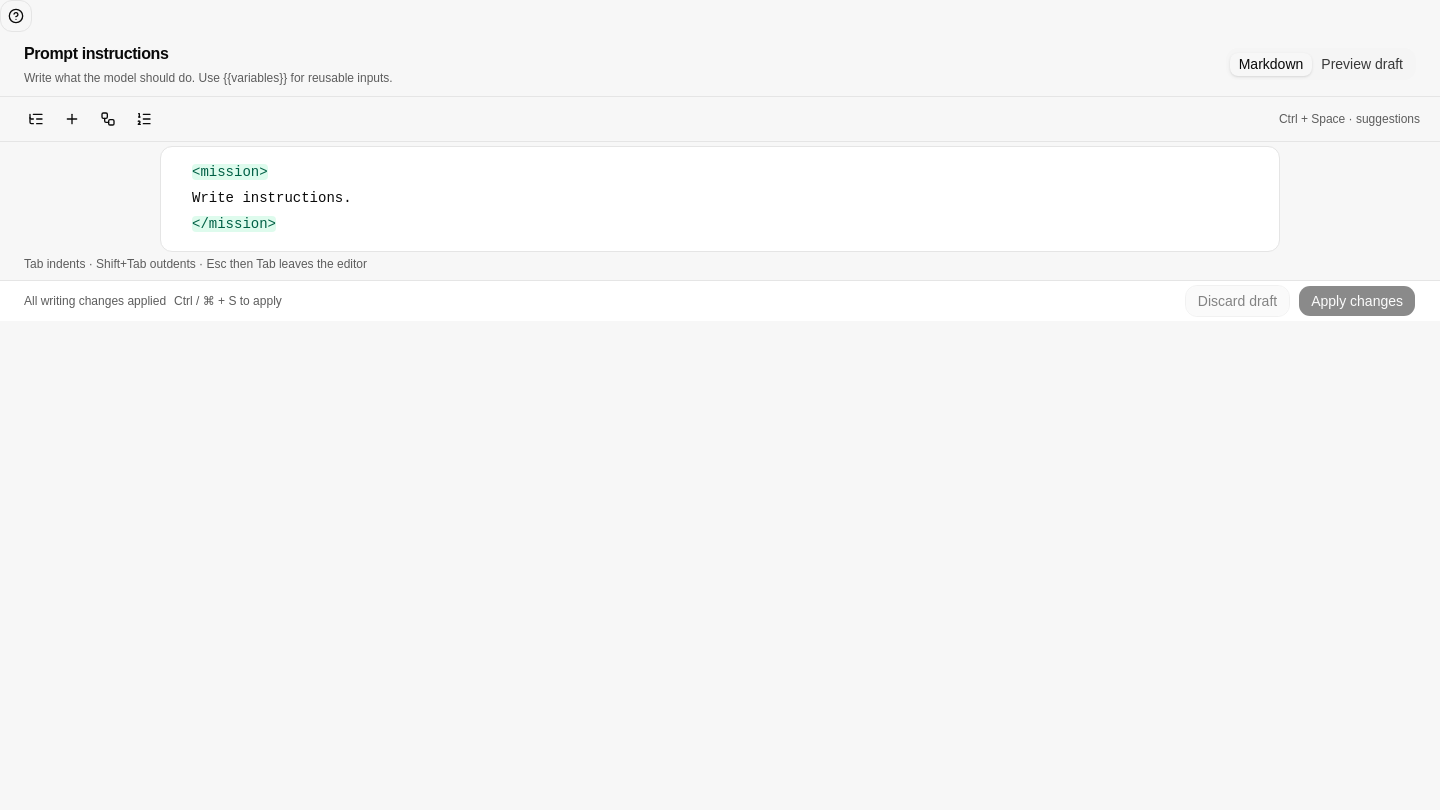
Test: does not carry an open tip into the next workspace after the app closes
The width and height of the screenshot is (1440, 810).
Note: Given: a shortcut tip is showing
Step 1. Click the 2nd button named "Sections" → x=36, y=119, box left=20, top=103, right=52, bottom=135
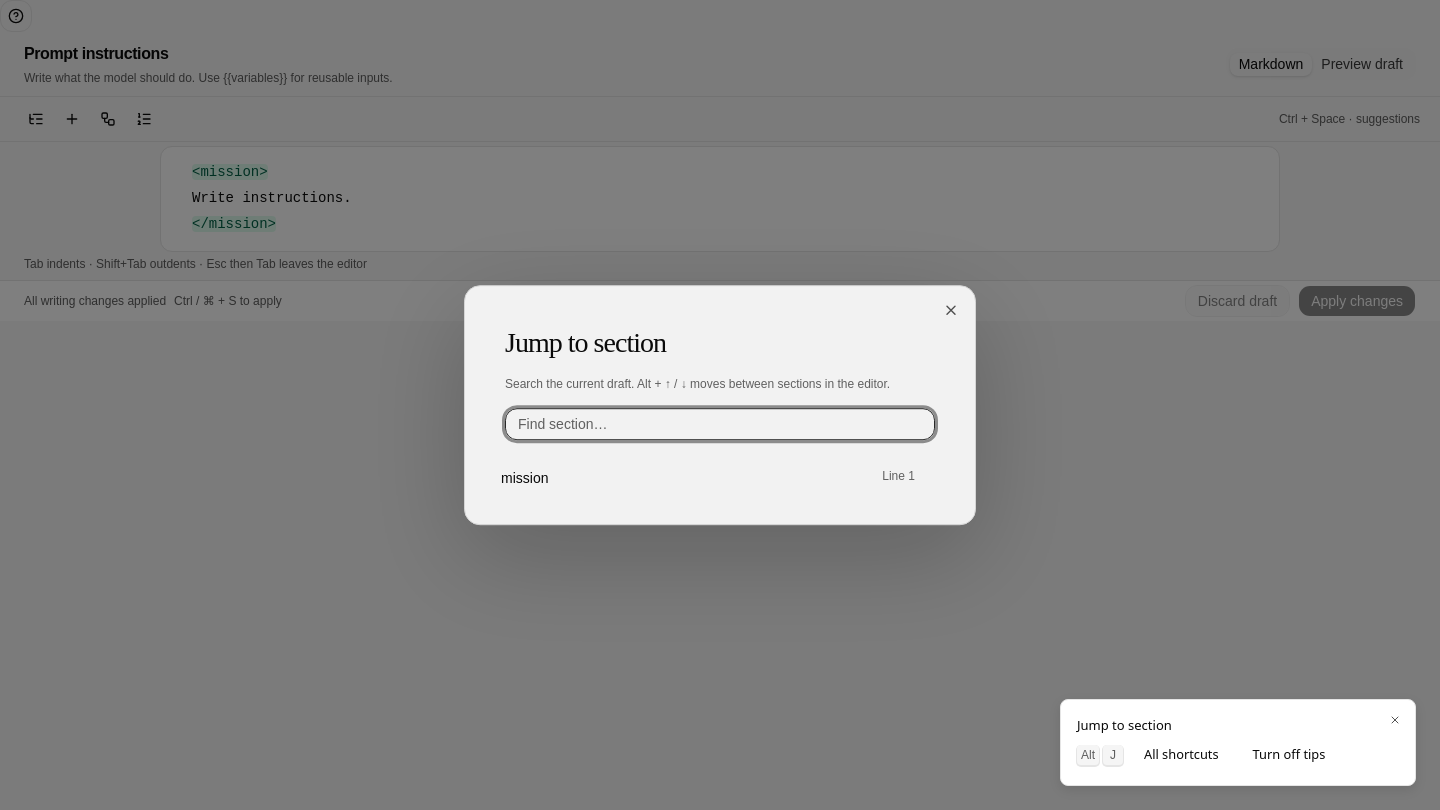
Result: the message named "Shortcut tip" is shown at left=1077, top=745, right=1123, bottom=765
